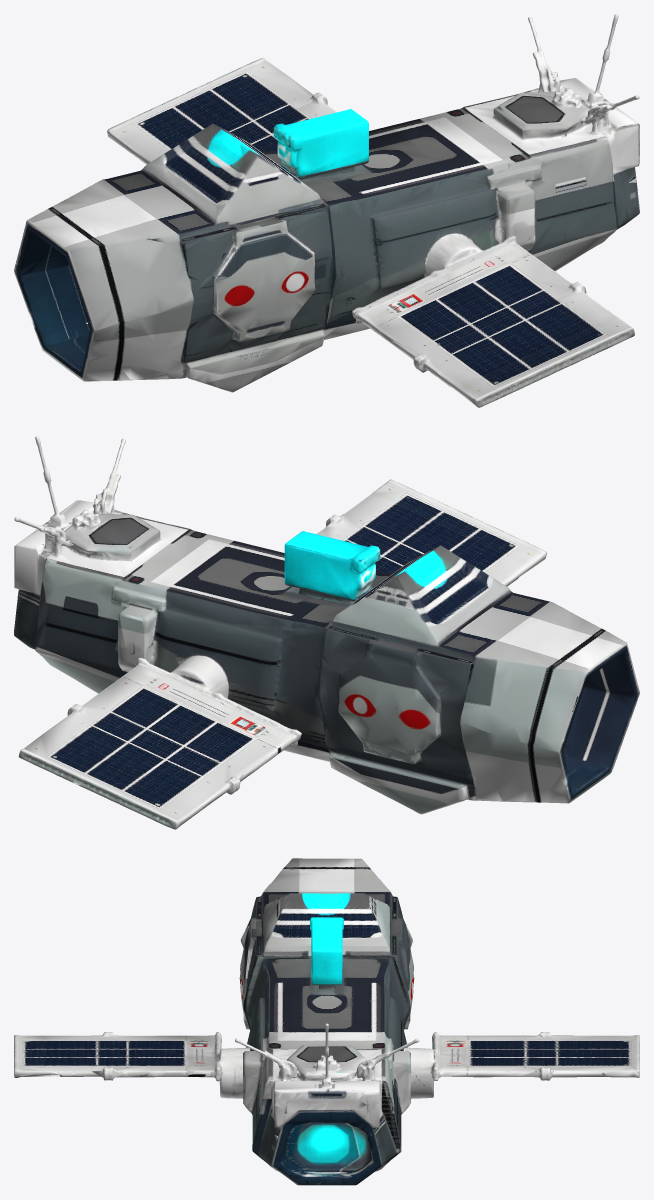
Rendered from wyber-satellite.glb.
The picture shows the model from 3 angles, top to bottom: view 1: azimuth 30°, elevation 25°; view 2: azimuth 150°, elevation 25°; view 3: azimuth 270°, elevation 25°; orthographic projection. The views are drawn at different scales.
Bounding box in the file's own units: 1.7 × 0.711 × 1.91.
Materials: 1 (1 with a texture image).
